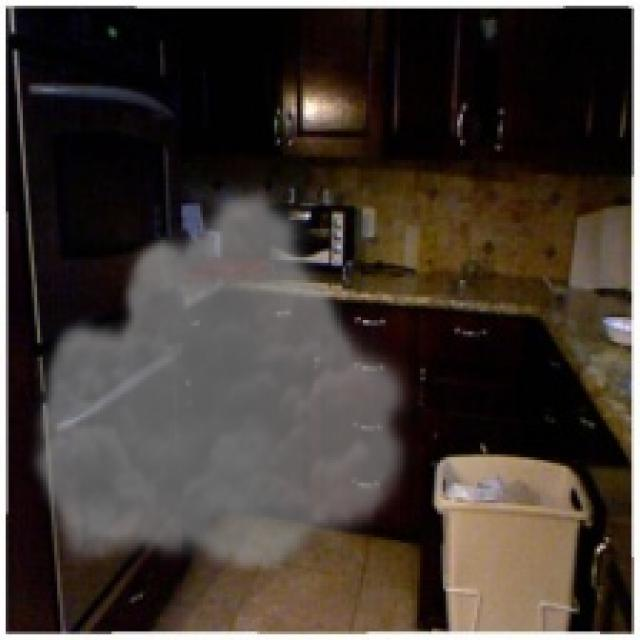smoke: (26, 180, 420, 577)
